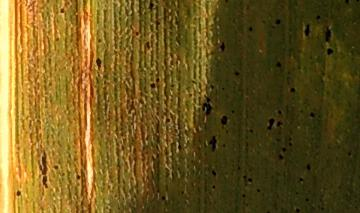tarspot: (36, 151, 51, 188), (320, 22, 336, 46), (206, 133, 221, 158), (263, 112, 276, 137), (300, 18, 313, 40), (90, 54, 106, 70), (217, 112, 230, 131), (271, 57, 286, 72), (197, 102, 213, 116), (272, 13, 285, 30), (12, 184, 25, 200), (207, 164, 220, 180), (274, 115, 285, 132), (324, 45, 338, 58), (306, 107, 318, 122), (216, 37, 226, 54), (311, 9, 324, 22), (144, 1, 158, 13), (274, 151, 286, 164), (160, 114, 174, 125), (303, 159, 313, 174), (286, 83, 298, 95), (292, 201, 304, 213), (243, 175, 256, 186), (296, 173, 309, 184), (72, 172, 84, 183), (208, 168, 220, 179), (204, 82, 217, 92), (253, 184, 263, 197), (149, 79, 158, 93), (153, 76, 164, 87), (231, 69, 242, 80), (158, 191, 169, 202), (246, 23, 257, 34), (58, 5, 68, 17), (279, 143, 289, 155), (175, 141, 184, 153), (245, 124, 255, 134), (208, 182, 220, 190), (345, 148, 353, 159), (169, 80, 176, 91), (241, 191, 250, 199), (220, 141, 228, 150), (285, 140, 296, 146), (341, 1, 354, 6), (52, 163, 59, 172)
